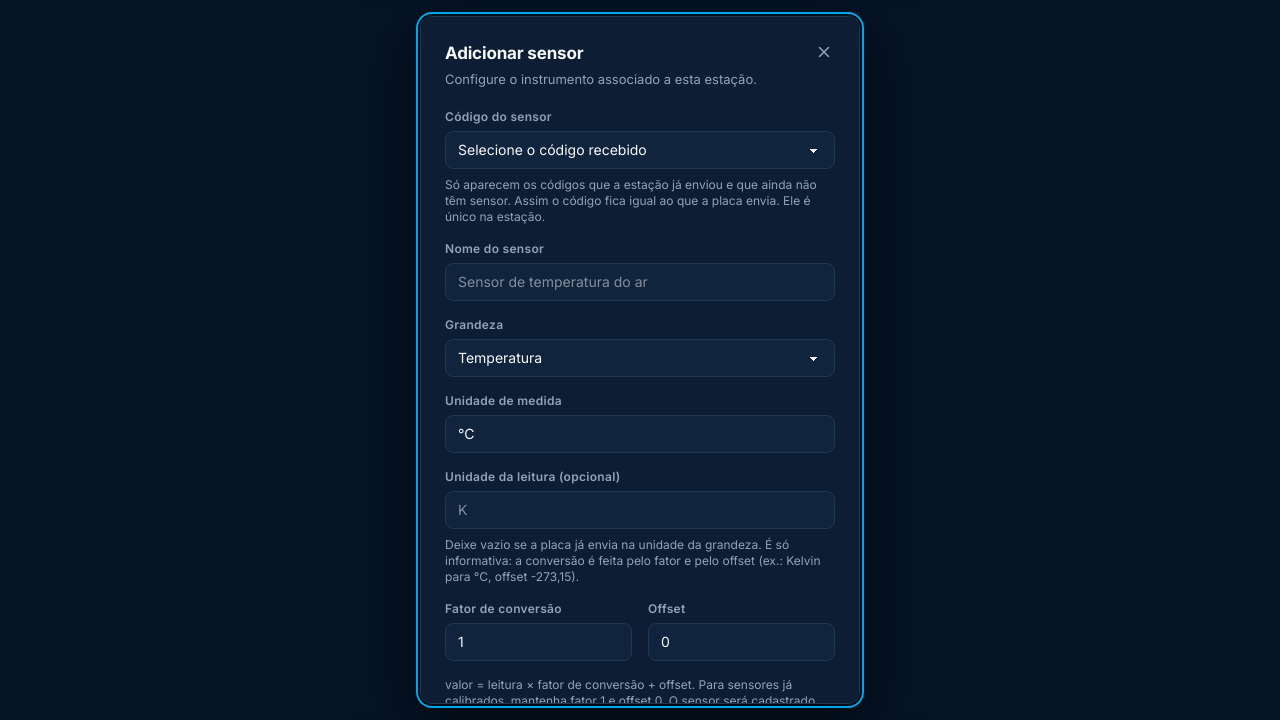
Scenario: SensorCreateModal: catálogo de grandezas (US-39) › mostra "Carregando grandezas…" e não deixa cadastrar enquanto o catálogo não chega
The image size is (1280, 720).
Later steps or results of the test are not shown.
Check: the dropdown labelled "Grandeza" is enabled, box [445,339,835,377]
Step 1. Select "TEMP-01 — Último valor 1 · Há 3 minutos · 12 leituras" in the dropdown labelled "Código do sensor" → [640, 150], box [445,131,835,169]
(page scrolled)
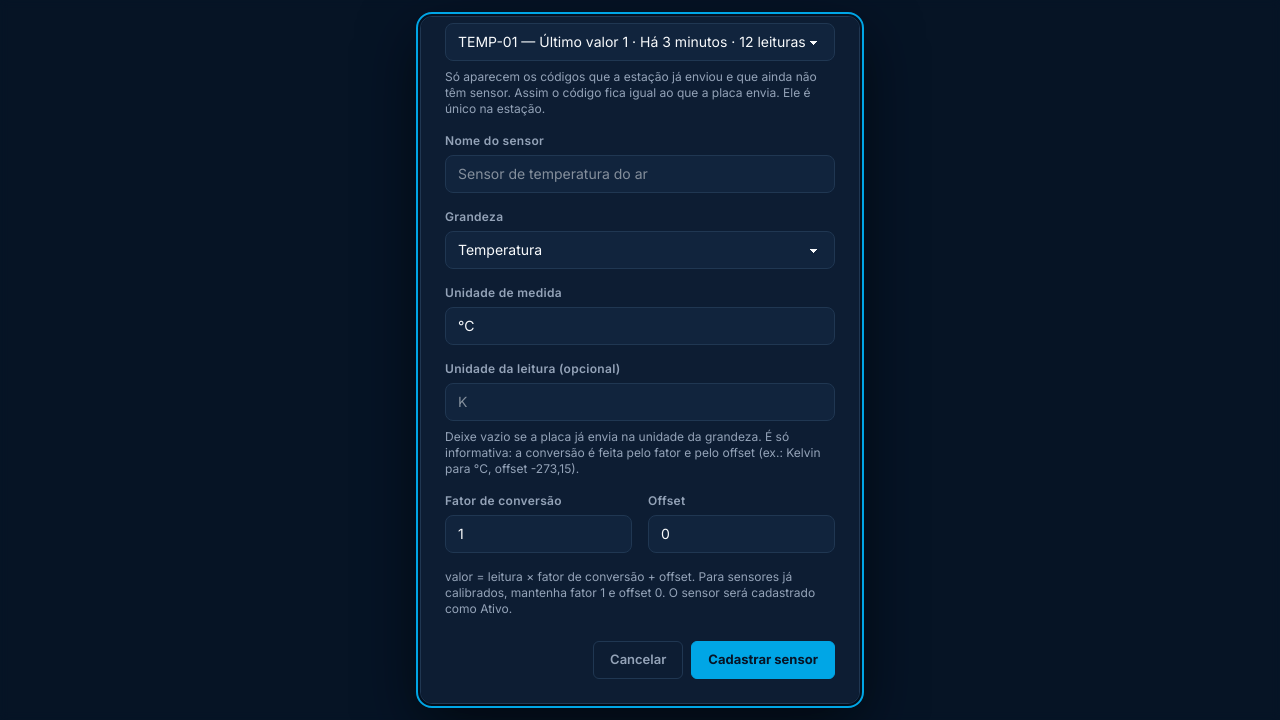
Check: the button "Cadastrar sensor" is enabled, box [691,641,835,678]
